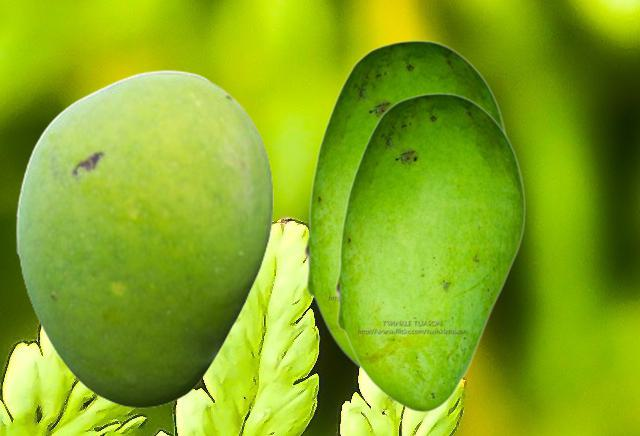green_mango: (15, 69, 272, 407), (303, 39, 506, 372), (334, 92, 525, 412)
